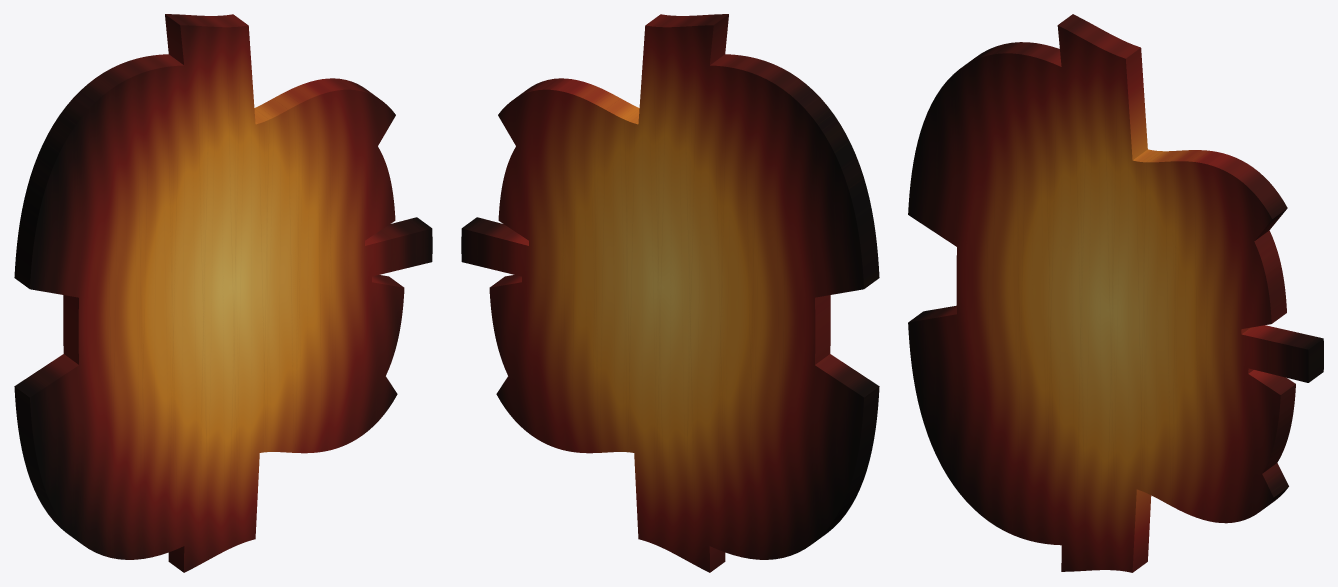
File: gibson_style_sg_cherry_sunburst.glb
3 views of the same model, side by side, from view 1: azimuth 30°, elevation 25°; view 2: azimuth 150°, elevation 25°; view 3: azimuth 330°, elevation 25° (orthographic).
Parts seen in each view (by area): view 1: BODY; view 2: BODY; view 3: BODY.
Boxes of the visible parts, x1,y1,x2,y2 form: BODY: (14,14,432,572); BODY: (461,14,879,572); BODY: (908,14,1323,572).
Bounding box in the file's own units: 1.81 × 2.36 × 0.12.
1 material, 1 textured.
